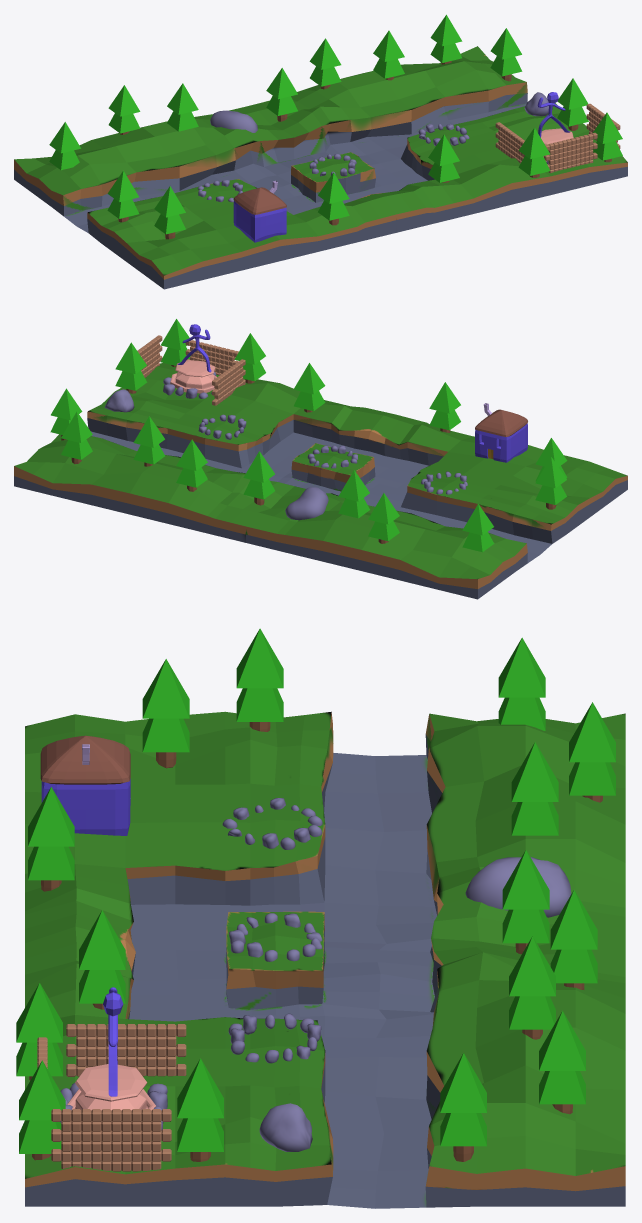
Rendered from Map.fbx.
The picture shows the model from 3 angles, top to bottom: view 1: azimuth 30°, elevation 25°; view 2: azimuth 150°, elevation 25°; view 3: azimuth 270°, elevation 25°; orthographic projection. The views are drawn at different scales.
Parts seen in each view (by area): view 1: Plane; view 2: Plane; view 3: Plane.
Boxes of the visible parts, left/top/right/bottom form: Plane: left=14, top=14, right=627, bottom=289; Plane: left=14, top=319, right=627, bottom=599; Plane: left=16, top=628, right=625, bottom=1208.
Bounding box in the file's own units: 0.5458 × 0.0948 × 0.3106.
